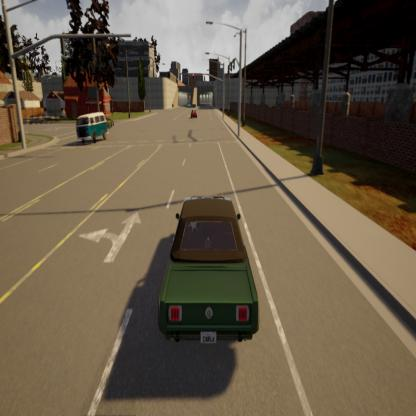Cars: (159, 198, 260, 350), (75, 112, 108, 142), (103, 117, 115, 131), (190, 107, 199, 118)
